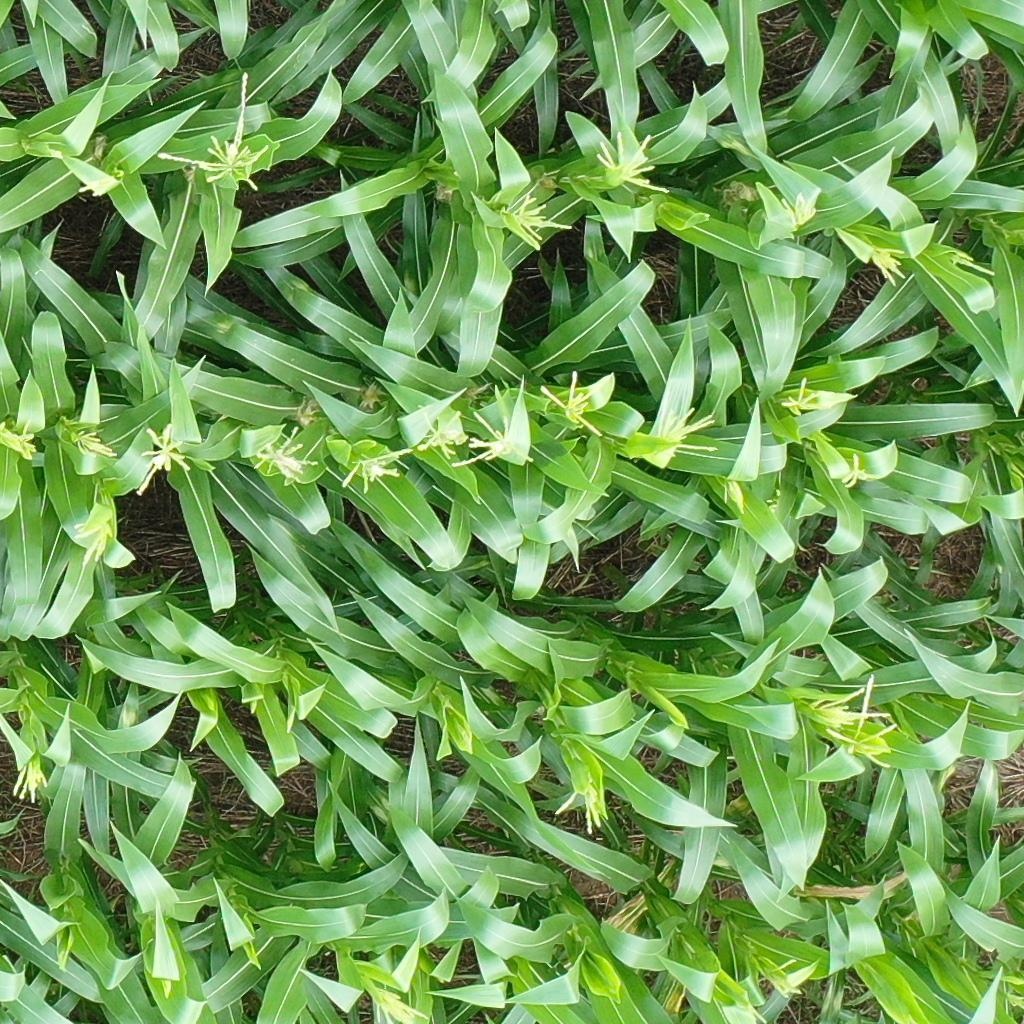Tassel: (163, 71, 262, 192), (826, 673, 899, 768), (452, 408, 535, 474), (596, 128, 671, 198), (803, 682, 894, 736), (499, 190, 573, 254), (131, 423, 191, 497), (541, 370, 608, 436), (654, 403, 726, 461), (255, 424, 321, 484), (334, 446, 416, 491), (366, 982, 431, 1024), (416, 404, 462, 461), (554, 787, 607, 834), (72, 518, 118, 563), (867, 243, 912, 287), (782, 376, 829, 418), (942, 246, 999, 280), (10, 761, 54, 805), (773, 186, 819, 225), (765, 959, 804, 1001), (718, 472, 751, 517), (841, 452, 876, 491), (77, 428, 118, 459), (78, 173, 125, 200), (13, 418, 39, 458)
